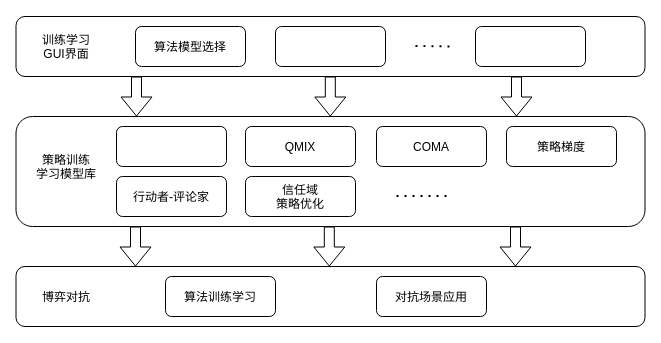
Some shapes in this 661 by 343 pixel diagram are drawn without their labels. Here are the shapes that lost their labels. From the top down, the centre of each, then its label:
At (330,46): "算法模型管理".
At (530,46): "参数修改".
At (171,146): "DQN".
